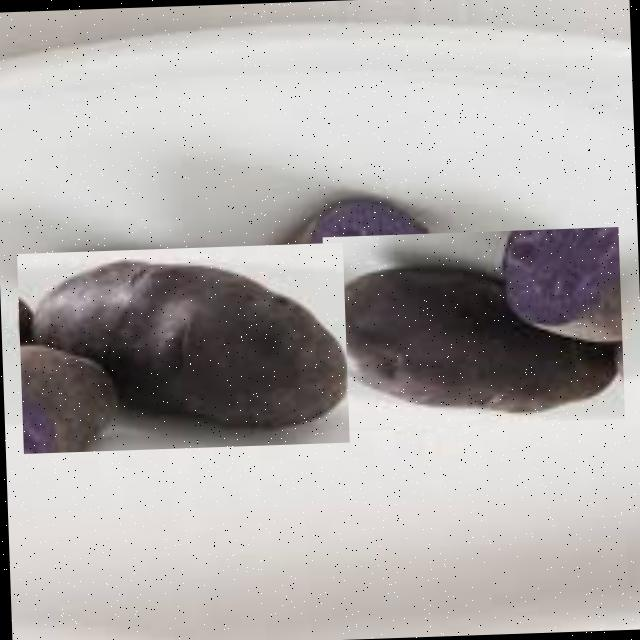Defected potato: (16, 242, 348, 452), (321, 225, 624, 428), (245, 186, 465, 384)
